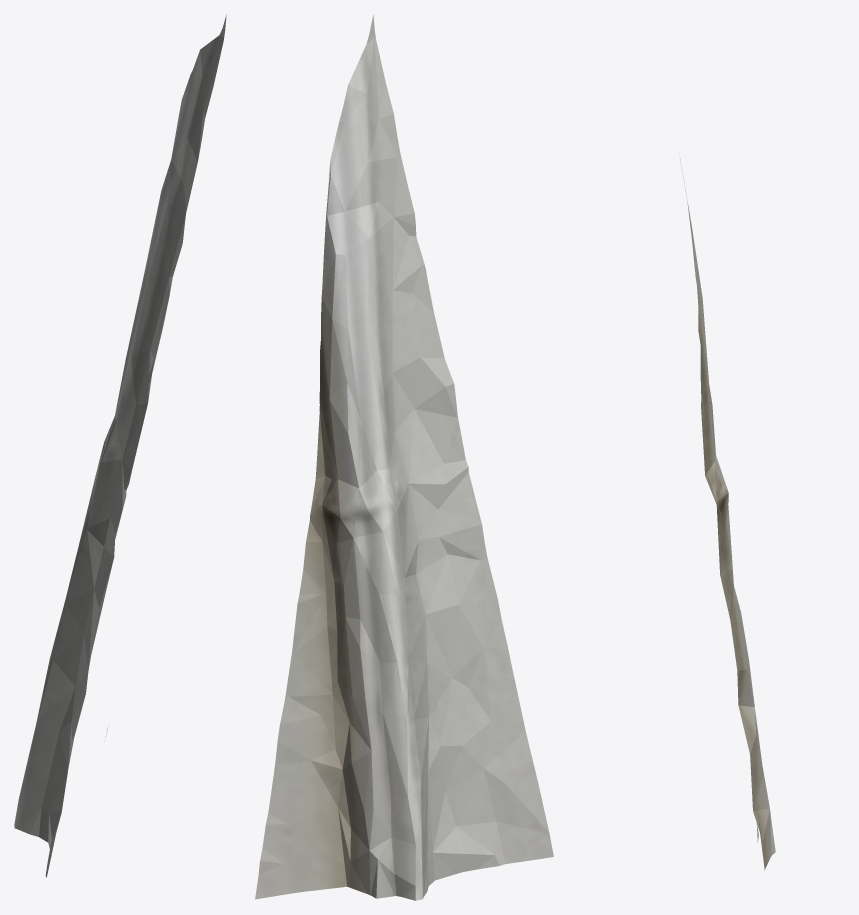
The picture shows the model from 3 angles, left to right: view 1: azimuth 30°, elevation 25°; view 2: azimuth 150°, elevation 25°; view 3: azimuth 270°, elevation 25°; orthographic projection. The views are drawn at different scales.
Bounding box in the file's own units: 0.1697 × 0.7176 × 0.1927.
Materials: 1 (1 with a texture image).
